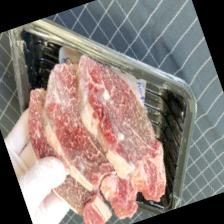meat: (60, 38, 178, 218), (24, 53, 145, 224), (13, 77, 116, 224)
